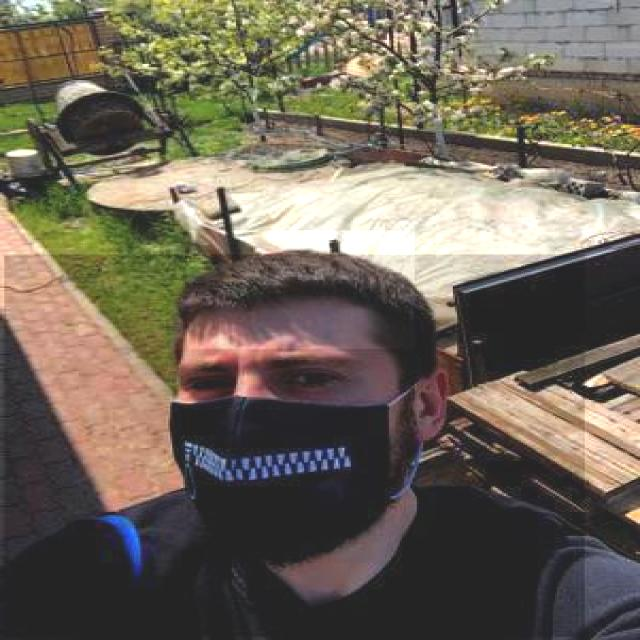face_mask: (170, 330, 396, 564)
head_nohelmet: (187, 230, 415, 349)
person: (2, 254, 585, 638)
